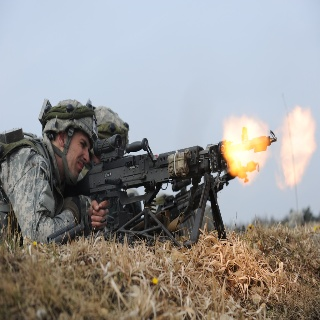rifle: (62, 129, 277, 245)
